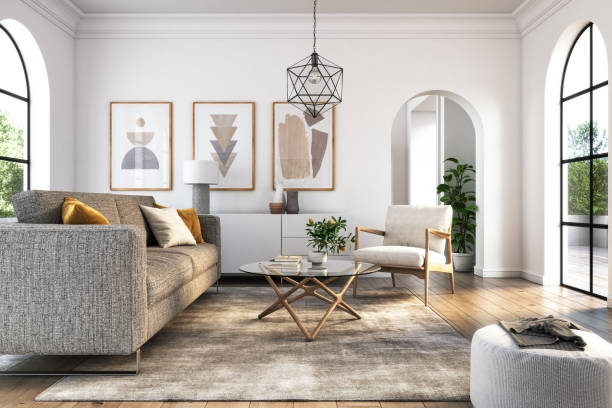chair: (355, 203, 457, 308)
flower vase: (304, 209, 355, 264)
large plant: (437, 153, 478, 272)
sofa: (0, 185, 224, 376)
table: (238, 258, 381, 341)
table lamp: (180, 155, 220, 214)
wall art: (106, 99, 174, 191), (190, 98, 256, 192), (271, 99, 337, 192)
